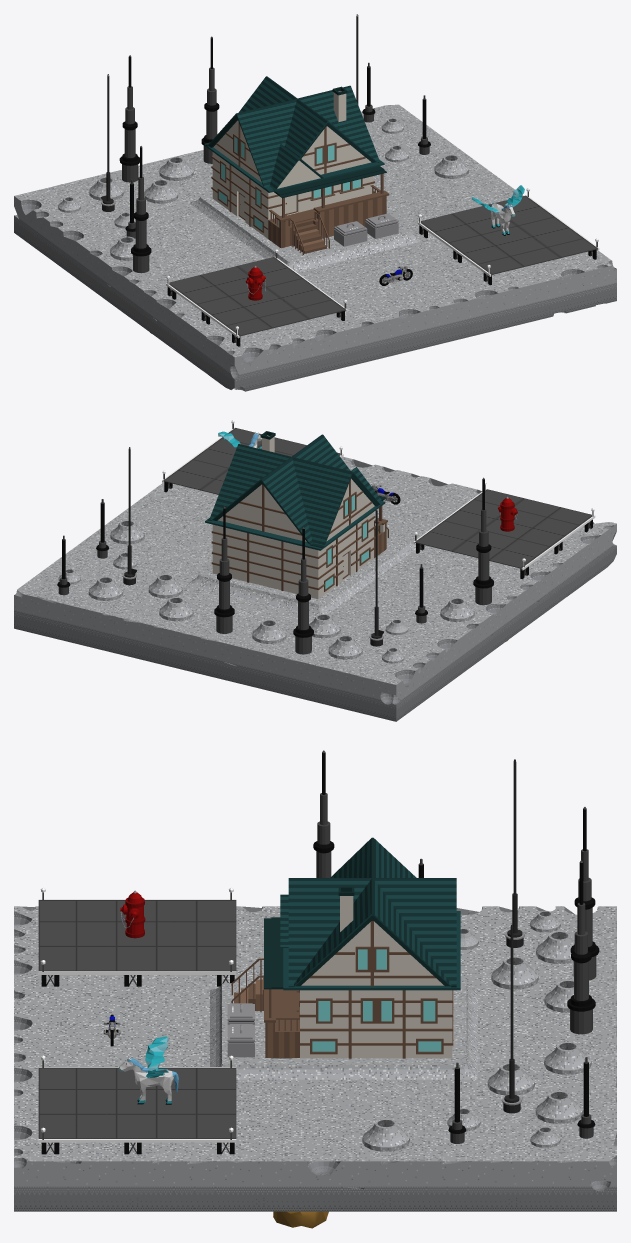
The picture shows the model from 3 angles, top to bottom: view 1: azimuth 30°, elevation 25°; view 2: azimuth 150°, elevation 25°; view 3: azimuth 270°, elevation 25°; orthographic projection. The views are drawn at different scales.
Visible parts, largest first — view 1: Cube.027, Cube.793, Cube.025, Cube.026, Cube.028, Cylinder.020, Cylinder.021, Cylinder.017, ANIMAL_PEGASO, Cube.029, Cube.030, Cylinder.026 (+5 smaller); view 2: Cube.027, Cube.793, Cube.025, Cube.028, Cube.026, Cylinder.017, Cylinder.021, Cylinder.020, Cylinder.028, Cylinder.030, Cylinder.029, Cylinder.031 (+7 smaller); view 3: Cube.027, Cube.793, Cube.025, Cube.026, Cube.028, Cylinder.017, ANIMAL_PEGASO, Cylinder.020, Cylinder.021, Cylinder.031, Cylinder.033, Cylinder.029 (+11 smaller).
Part boxes in pixels (x1=…): Cube.027: x1=14, y1=104, x2=616, y2=391; Cube.793: x1=204, y1=76, x2=389, y2=254; Cube.025: x1=166, y1=249, x2=347, y2=346; Cube.026: x1=417, y1=188, x2=599, y2=285; Cube.028: x1=190, y1=193, x2=421, y2=271; Cylinder.020: x1=119, y1=55, x2=139, y2=182; Cylinder.021: x1=131, y1=146, x2=151, y2=273; Cylinder.017: x1=201, y1=36, x2=219, y2=163; ANIMAL_PEGASO: x1=471, y1=185, x2=524, y2=235; Cube.029: x1=334, y1=221, x2=367, y2=246; Cube.030: x1=365, y1=213, x2=398, y2=238; Cylinder.026: x1=144, y1=179, x2=178, y2=203; Cube.027: x1=14, y1=456, x2=616, y2=721; Cube.793: x1=205, y1=431, x2=388, y2=599; Cube.025: x1=413, y1=481, x2=595, y2=579; Cube.028: x1=188, y1=534, x2=415, y2=615; Cube.026: x1=162, y1=420, x2=343, y2=494; Cylinder.017: x1=214, y1=506, x2=234, y2=633; Cylinder.021: x1=473, y1=477, x2=493, y2=605; Cylinder.020: x1=293, y1=527, x2=313, y2=654; Cylinder.028: x1=328, y1=635, x2=362, y2=659; Cylinder.030: x1=148, y1=574, x2=182, y2=598; Cylinder.029: x1=159, y1=597, x2=193, y2=621; Cylinder.031: x1=88, y1=576, x2=123, y2=600; Cube.027: x1=14, y1=906, x2=616, y2=1211; Cube.793: x1=231, y1=837, x2=460, y2=1058; Cube.025: x1=38, y1=887, x2=236, y2=986; Cube.026: x1=38, y1=1055, x2=236, y2=1154; Cube.028: x1=210, y1=983, x2=477, y2=1079; Cylinder.017: x1=567, y1=860, x2=595, y2=1034; ANIMAL_PEGASO: x1=118, y1=1036, x2=178, y2=1104; Cylinder.020: x1=570, y1=807, x2=599, y2=980; Cylinder.021: x1=313, y1=750, x2=334, y2=877; Cylinder.031: x1=535, y1=1091, x2=583, y2=1123; Cylinder.033: x1=362, y1=1119, x2=409, y2=1151; Cylinder.029: x1=544, y1=1042, x2=591, y2=1074.
Bounding box in the file's own units: 4000 × 1912 × 4000.
Materials: 29 (5 with a texture image).
